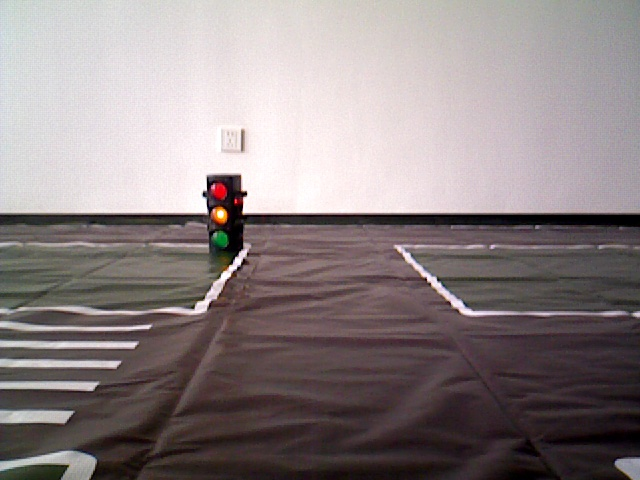yellow: (205, 176, 238, 251)
